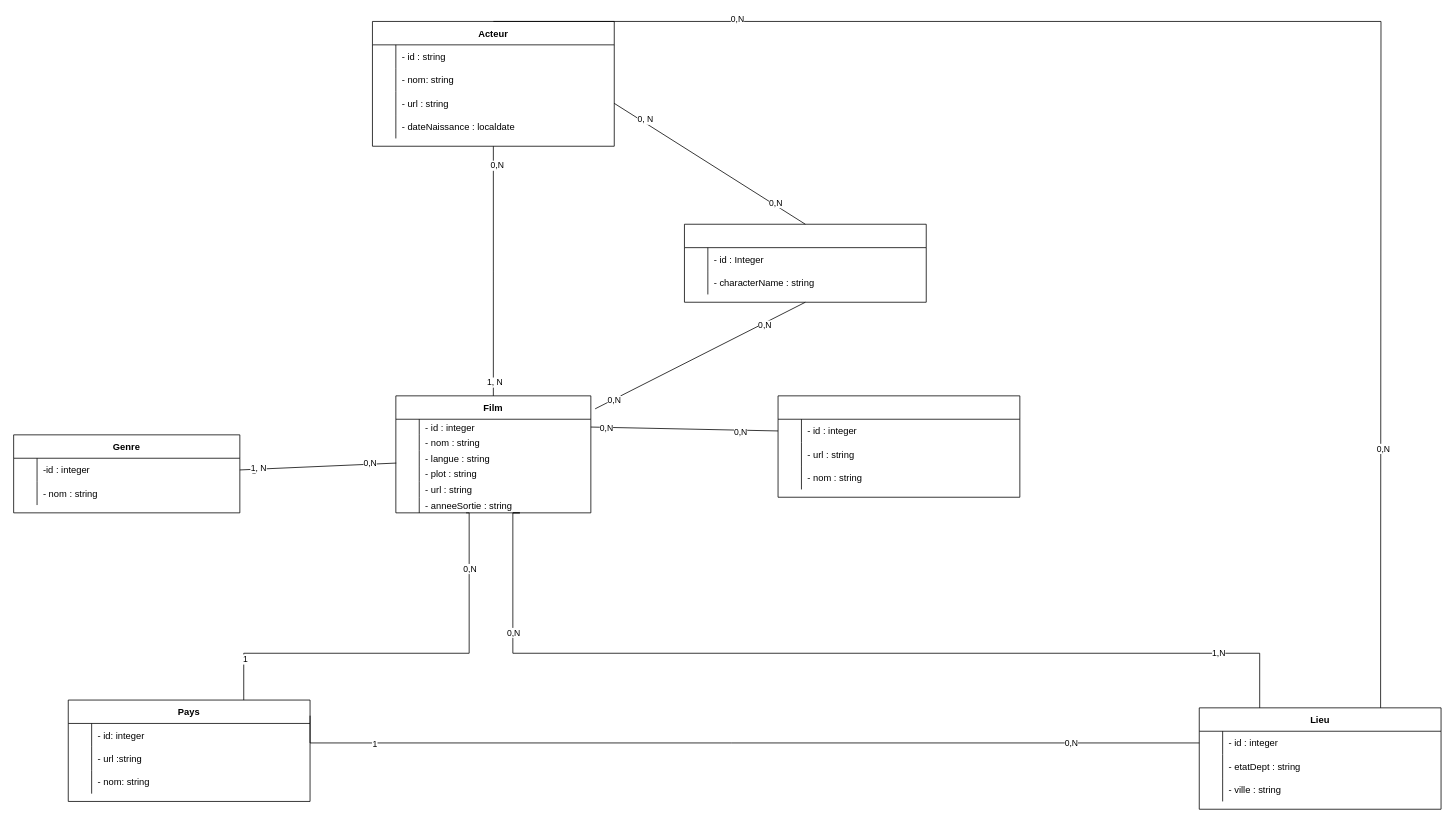
Some shapes in this 1455 by 823 pixel diagram are drawn without their labels. Each missing label, with the box of its shape:
Realisateur: (777, 395, 1020, 497)
Role: (684, 223, 926, 302)
